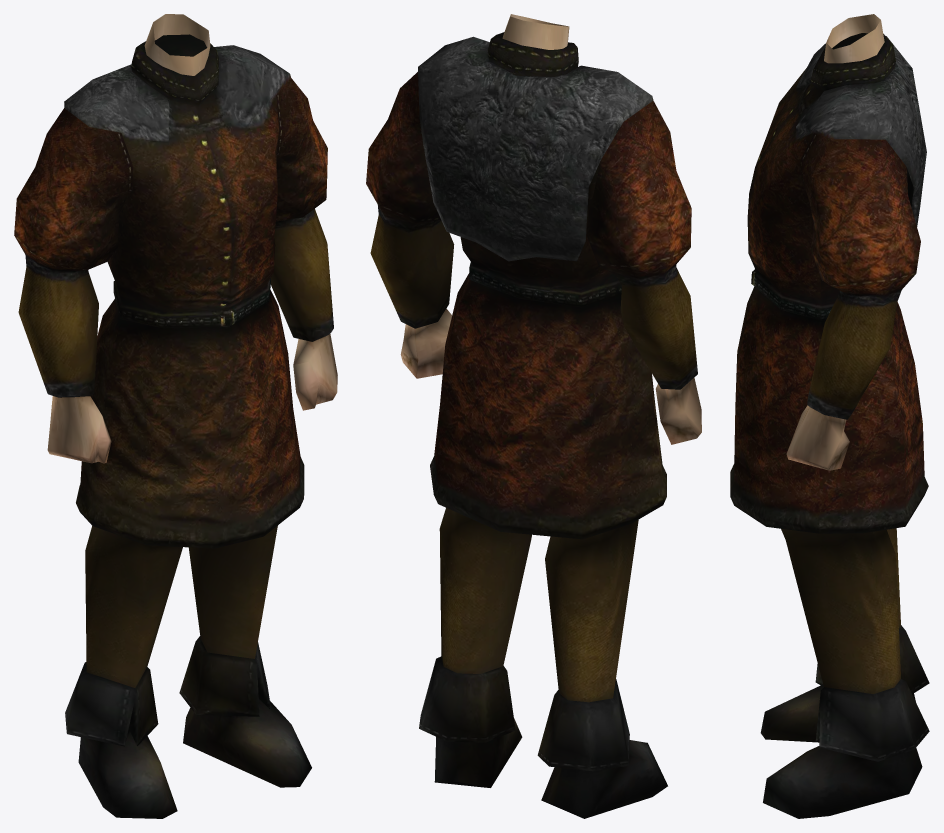
The model's file is HUM_ARMOR_RICH_MERCHANT_04.glb.
3 renders of one model, left to right at view 1: azimuth 30°, elevation 25°; view 2: azimuth 150°, elevation 25°; view 3: azimuth 270°, elevation 25°, orthographic. The views are drawn at different scales.
Visible parts, largest first — view 1: HUM_ARMOR_RICH_MERCHANT_04; view 2: HUM_ARMOR_RICH_MERCHANT_04; view 3: HUM_ARMOR_RICH_MERCHANT_04.
Part boxes in pixels (bbox=[...]): HUM_ARMOR_RICH_MERCHANT_04: bbox=[14, 14, 337, 818]; HUM_ARMOR_RICH_MERCHANT_04: bbox=[366, 14, 701, 818]; HUM_ARMOR_RICH_MERCHANT_04: bbox=[730, 14, 929, 818].
Bounding box in the file's own units: 0.7034 × 1.7 × 0.4101.
Materials: 2 (2 with a texture image).
